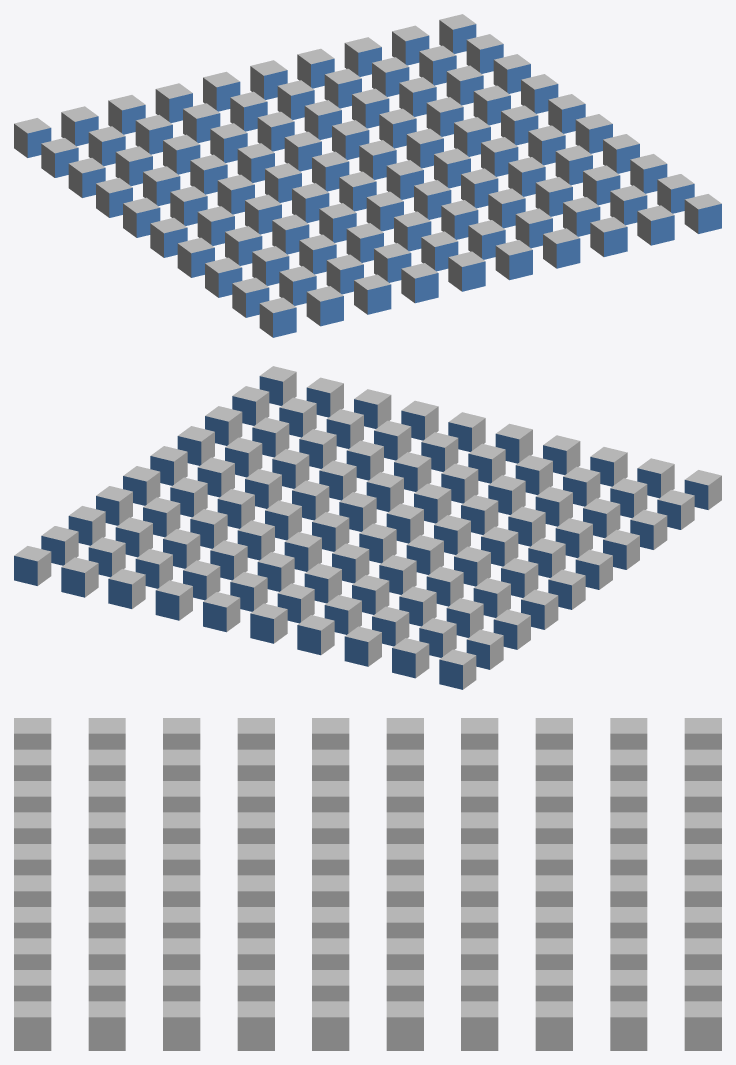
File: asset.glb
The picture shows the model from 3 angles, top to bottom: view 1: azimuth 30°, elevation 25°; view 2: azimuth 150°, elevation 25°; view 3: azimuth 270°, elevation 25°; orthographic projection. The views are drawn at different scales.
Parts seen in each view (by area): view 1: Phase fixture 000, Phase fixture 006, Phase fixture 001, Phase fixture 004, Phase fixture 008, Phase fixture 002, Phase fixture 003, Phase fixture 005, Phase fixture 007, Phase fixture 009, Phase fixture 020, Phase fixture 030 (+88 smaller); view 2: Phase fixture 090, Phase fixture 096, Phase fixture 091, Phase fixture 094, Phase fixture 098, Phase fixture 092, Phase fixture 093, Phase fixture 095, Phase fixture 097, Phase fixture 099, Phase fixture 060, Phase fixture 070 (+88 smaller); view 3: Phase fixture 009, Phase fixture 019, Phase fixture 029, Phase fixture 039, Phase fixture 049, Phase fixture 059, Phase fixture 069, Phase fixture 079, Phase fixture 089, Phase fixture 099, Phase fixture 000, Phase fixture 003 (+88 smaller).
Part boxes in pixels (<box>): Phase fixture 000: <box>259,297,296,337</box>; Phase fixture 006: <box>543,228,580,268</box>; Phase fixture 001: <box>306,286,343,326</box>; Phase fixture 004: <box>448,251,485,291</box>; Phase fixture 008: <box>637,205,674,245</box>; Phase fixture 002: <box>354,274,391,314</box>; Phase fixture 003: <box>401,263,438,303</box>; Phase fixture 005: <box>495,240,532,280</box>; Phase fixture 007: <box>590,217,627,256</box>; Phase fixture 009: <box>684,194,721,233</box>; Phase fixture 020: <box>205,257,242,297</box>; Phase fixture 030: <box>177,237,214,277</box>; Phase fixture 090: <box>439,649,476,689</box>; Phase fixture 096: <box>155,580,192,620</box>; Phase fixture 091: <box>392,638,429,678</box>; Phase fixture 094: <box>250,603,287,643</box>; Phase fixture 098: <box>61,557,98,597</box>; Phase fixture 092: <box>344,626,381,666</box>; Phase fixture 093: <box>297,615,334,655</box>; Phase fixture 095: <box>203,592,240,632</box>; Phase fixture 097: <box>108,569,145,608</box>; Phase fixture 099: <box>14,546,51,585</box>; Phase fixture 060: <box>521,589,558,629</box>; Phase fixture 070: <box>493,609,530,649</box>; Phase fixture 009: <box>14,1001,51,1050</box>; Phase fixture 019: <box>88,1001,125,1050</box>; Phase fixture 029: <box>163,1001,200,1050</box>; Phase fixture 039: <box>237,1001,274,1050</box>; Phase fixture 049: <box>312,1001,349,1050</box>; Phase fixture 059: <box>386,1001,423,1050</box>; Phase fixture 069: <box>461,1001,498,1050</box>; Phase fixture 079: <box>535,1001,572,1050</box>; Phase fixture 089: <box>610,1001,647,1050</box>; Phase fixture 099: <box>684,1001,721,1050</box>; Phase fixture 000: <box>14,718,51,749</box>; Phase fixture 003: <box>14,812,51,843</box>.
Size of the model in its own units: 0.38 by 0.02 by 0.38.
